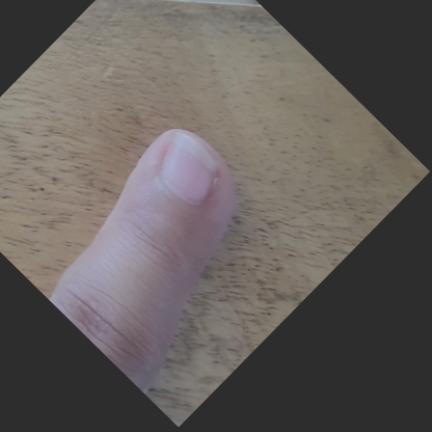Nail: (159, 132, 218, 202)
